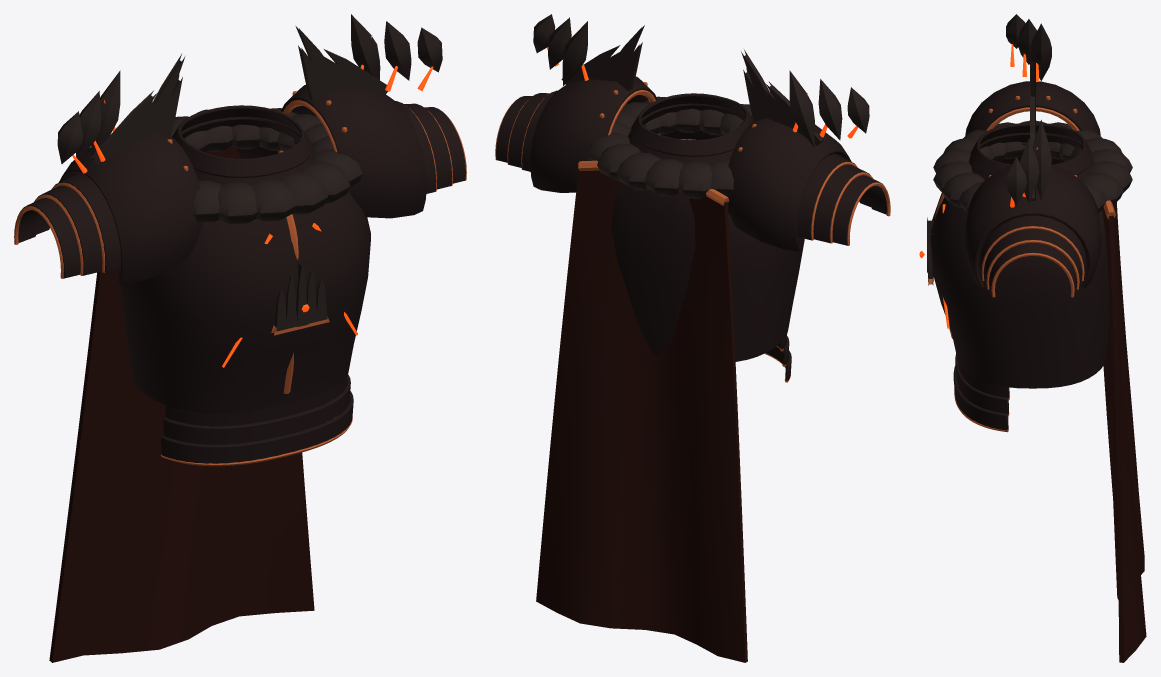
File: asc_firstflame_warlord_armor.glb
3 renders of one model, left to right at view 1: azimuth 30°, elevation 25°; view 2: azimuth 150°, elevation 25°; view 3: azimuth 270°, elevation 25°, orthographic. The views are drawn at different scales.
Visible parts, largest first — view 1: asc_firstflame_warlord_armor, AT_upper_arm_R, AT_upper_arm_L; view 2: asc_firstflame_warlord_armor, AT_upper_arm_R, AT_upper_arm_L; view 3: asc_firstflame_warlord_armor, AT_upper_arm_L, AT_upper_arm_R.
Boxes of the visible parts, x1,y1,x2,y2 form: asc_firstflame_warlord_armor: (49,14,442,662); AT_upper_arm_R: (14,54,203,284); AT_upper_arm_L: (278,26,466,218); asc_firstflame_warlord_armor: (533,14,869,662); AT_upper_arm_R: (727,49,890,251); AT_upper_arm_L: (495,25,661,192); asc_firstflame_warlord_armor: (919,14,1146,662); AT_upper_arm_L: (964,90,1101,297); AT_upper_arm_R: (965,43,1100,135).
Bounding box in the file's own units: 0.9688 × 1.46 × 0.5511.
